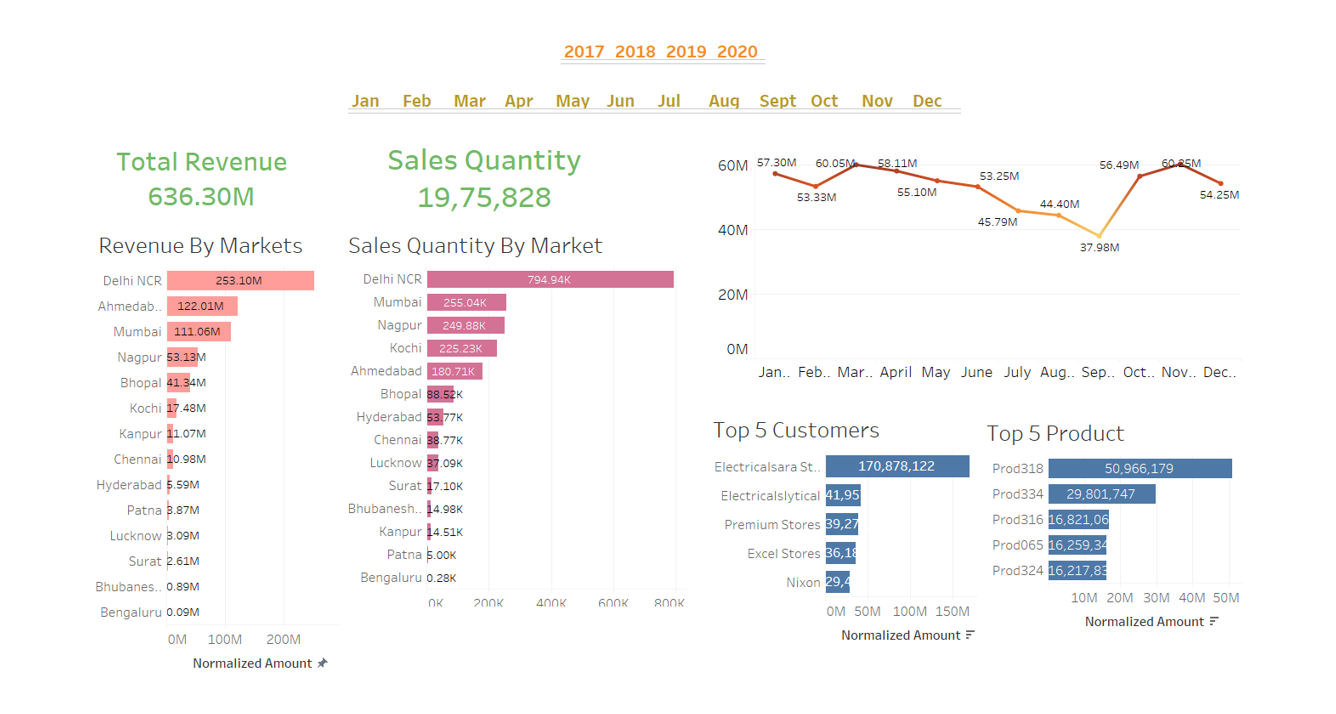

The dashboard page shown, as its layout file describes it:
{"tool":"tableau","page":{"name":"Dashboard 1","canvas":[1400,900],"ordinal":0},"visuals":[{"type":"worksheet","title":"Year","mark":"Automatic","cols":["cy_date"],"box":[582,64,244,43]},{"type":"worksheet","title":"Month","mark":"Automatic","cols":["cy_date"],"box":[332,122,746,53]},{"type":"worksheet","title":"Quantity","mark":"Automatic","box":[373,178,262,106]},{"type":"worksheet","title":"Revenue","mark":"Automatic","box":[50,183,234,106]},{"type":"worksheet","title":"Revenue By Year","mark":"Automatic","rows":["Calculation_1196550162106875904"],"cols":["cy_date"],"box":[767,195,615,284]},{"type":"worksheet","title":"Revenue By Markets","mark":"Automatic","rows":["markets_name"],"cols":["Calculation_1196550162106875904"],"box":[34,294,287,539]},{"type":"worksheet","title":"Sales Quantity By Market","mark":"Automatic","rows":["markets_name"],"cols":["sales_qty"],"box":[328,294,402,474]},{"type":"worksheet","title":"Top 5 Customers","mark":"Automatic","rows":["custmer_name"],"cols":["Calculation_1196550162106875904"],"box":[757,511,315,284]},{"type":"worksheet","title":"Top 5 Product","mark":"Automatic","rows":["product_code"],"cols":["Calculation_1196550162106875904"],"box":[1079,515,304,292]}]}

Visuals, with their boxes on the page's 1400x900 design canvas (x1, y1, x2, y2). These are canvas units, not pixel positions in the 1336x714 screenshot, which may show the page scaled, cropped or inside an application window:
"Year" worksheet: bbox(582, 64, 826, 107)
"Month" worksheet: bbox(332, 122, 1078, 175)
"Quantity" worksheet: bbox(373, 178, 635, 284)
"Revenue" worksheet: bbox(50, 183, 284, 289)
"Revenue By Year" worksheet: bbox(767, 195, 1382, 479)
"Revenue By Markets" worksheet: bbox(34, 294, 321, 833)
"Sales Quantity By Market" worksheet: bbox(328, 294, 730, 768)
"Top 5 Customers" worksheet: bbox(757, 511, 1072, 795)
"Top 5 Product" worksheet: bbox(1079, 515, 1383, 807)
